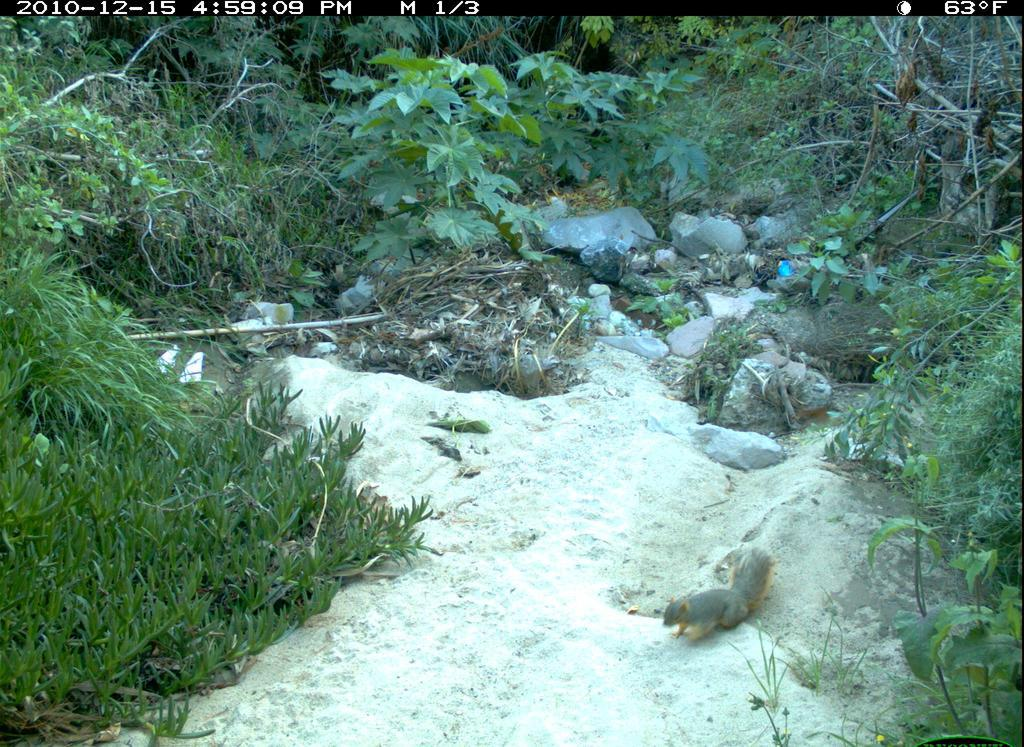squirrel: (653, 539, 785, 651)
